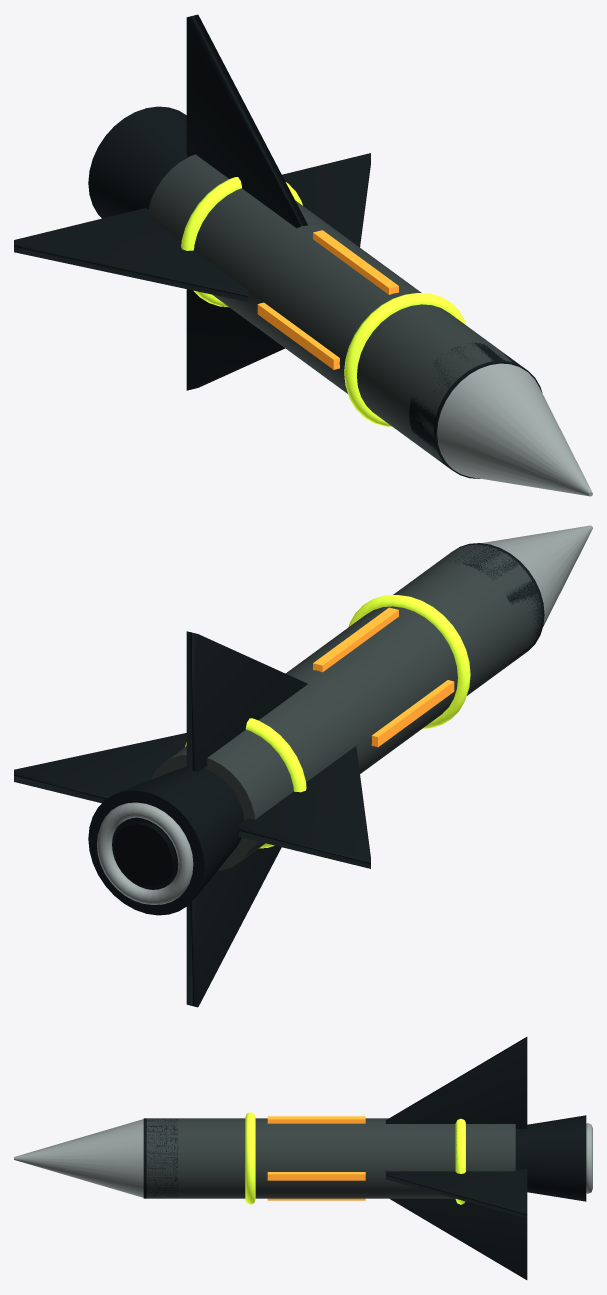
File: micro-missile.glb
The picture shows the model from 3 angles, top to bottom: view 1: azimuth 30°, elevation 25°; view 2: azimuth 150°, elevation 25°; view 3: azimuth 270°, elevation 25°; orthographic projection. The views are drawn at different scales.
Visible parts, largest first — view 1: fuselage__Cerakote_graphite_armor, control-fins__Recessed_carbon_mechanism, nose__Machined_titanium, nozzle__Recessed_carbon_mechanism, fuselage-bands__Velocity_chartreuse_identification, identification__Amber_safety_identification, nose__Recessed_carbon_mechanism; view 2: fuselage__Cerakote_graphite_armor, control-fins__Recessed_carbon_mechanism, nozzle__Recessed_carbon_mechanism, nozzle__Machined_titanium, fuselage-bands__Velocity_chartreuse_identification, nose__Machined_titanium, nozzle__Vibration_isolator, identification__Amber_safety_identification, nose__Recessed_carbon_mechanism; view 3: fuselage__Cerakote_graphite_armor, control-fins__Recessed_carbon_mechanism, nose__Machined_titanium, nozzle__Recessed_carbon_mechanism, identification__Amber_safety_identification, fuselage-bands__Velocity_chartreuse_identification, nose__Recessed_carbon_mechanism, nozzle__Machined_titanium.
Part boxes in pixels (box(x1,y1,x2,y2)): fuselage__Cerakote_graphite_armor: box(147, 154, 523, 462); control-fins__Recessed_carbon_mechanism: box(14, 14, 370, 390); nose__Machined_titanium: box(437, 363, 592, 496); nozzle__Recessed_carbon_mechanism: box(88, 106, 188, 218); fuselage-bands__Velocity_chartreuse_identification: box(181, 177, 466, 426); identification__Amber_safety_identification: box(257, 230, 398, 369); nose__Recessed_carbon_mechanism: box(409, 342, 542, 478); fuselage__Cerakote_graphite_armor: box(151, 544, 542, 870); control-fins__Recessed_carbon_mechanism: box(14, 631, 370, 1007); nozzle__Recessed_carbon_mechanism: box(88, 767, 243, 915); nozzle__Machined_titanium: box(97, 802, 193, 904); fuselage-bands__Velocity_chartreuse_identification: box(185, 595, 470, 848); nose__Machined_titanium: box(481, 525, 592, 626); nozzle__Vibration_isolator: box(114, 821, 175, 886); identification__Amber_safety_identification: box(313, 607, 454, 747); nose__Recessed_carbon_mechanism: box(452, 543, 544, 664); fuselage__Cerakote_graphite_armor: box(146, 1118, 515, 1198); control-fins__Recessed_carbon_mechanism: box(385, 1037, 527, 1279); nose__Machined_titanium: box(14, 1119, 143, 1197); nozzle__Recessed_carbon_mechanism: box(515, 1115, 586, 1201); identification__Amber_safety_identification: box(267, 1116, 365, 1200); fuselage-bands__Velocity_chartreuse_identification: box(245, 1112, 465, 1204); nose__Recessed_carbon_mechanism: box(143, 1118, 178, 1198); nozzle__Machined_titanium: box(586, 1123, 592, 1193).
Bounding box in the file's own units: 0.92 × 0.92 × 2.01.
